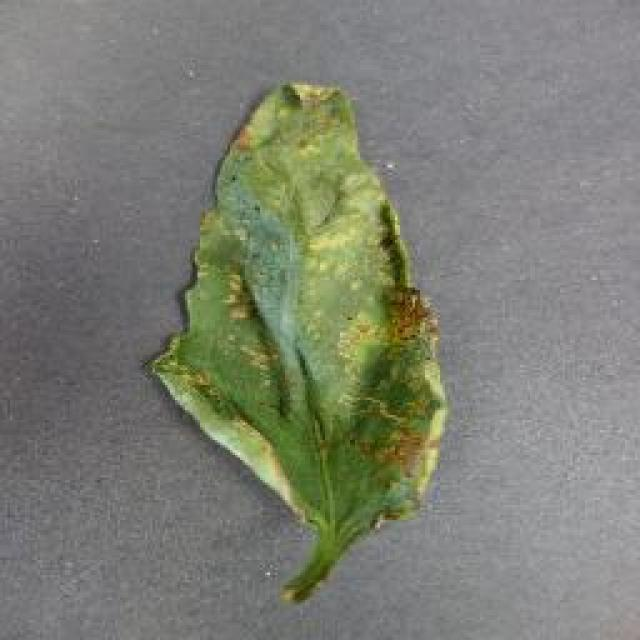Tomato bacterial spot leaf: (142, 78, 454, 542)
